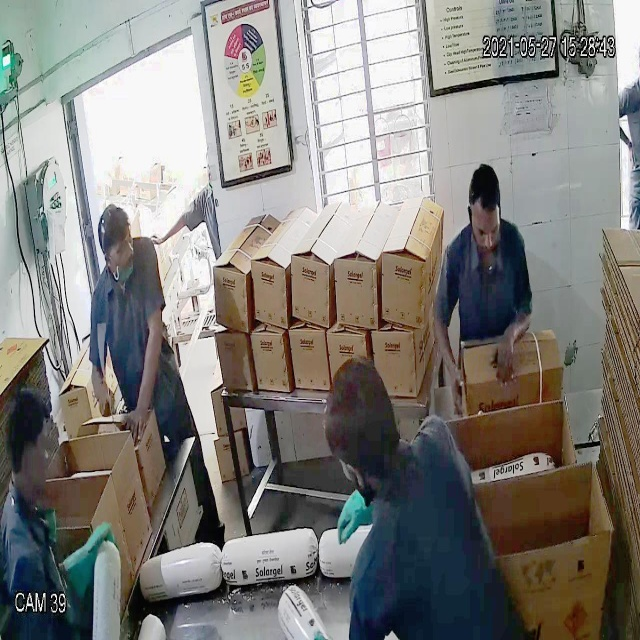Sin_gafas: (463, 206, 506, 246), (98, 228, 141, 263)
